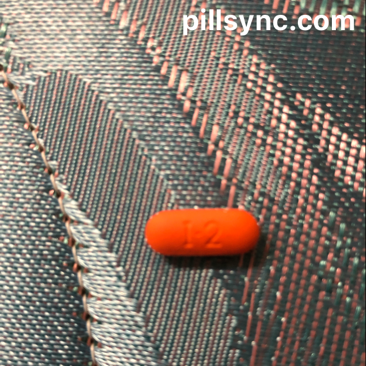Ibuprofen 200 MG Oral Tablet: (139, 197, 268, 269)
